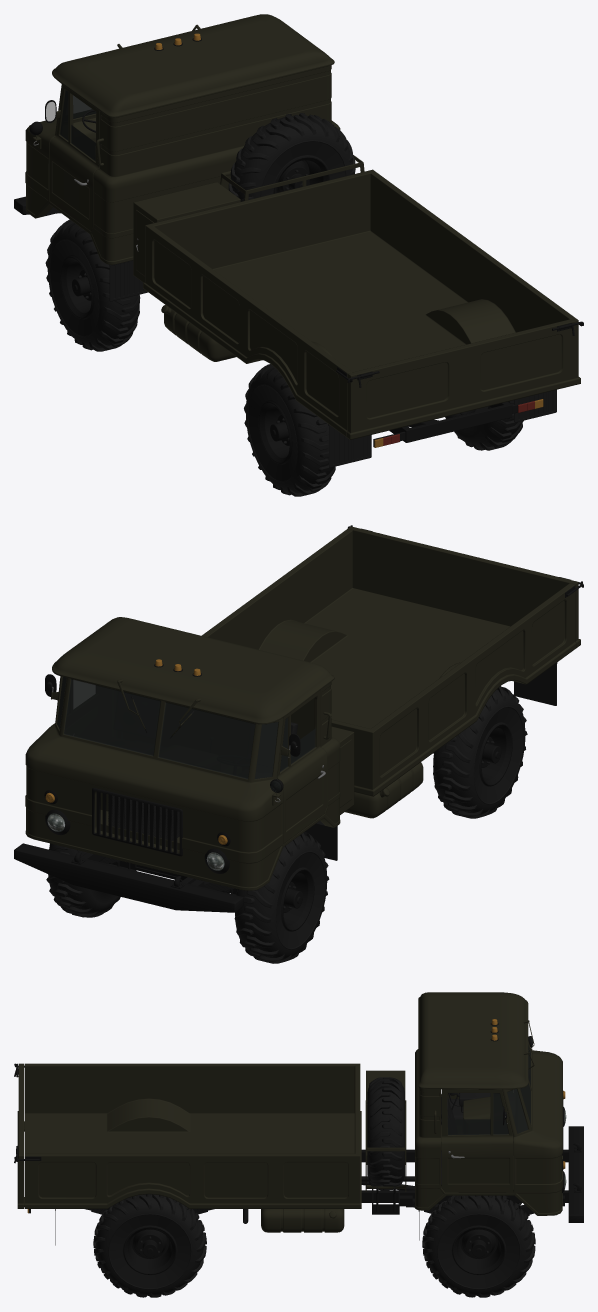
Rendered from GAZ_66.fbx.
3 renders of one model, top to bottom at view 1: azimuth 30°, elevation 25°; view 2: azimuth 150°, elevation 25°; view 3: azimuth 270°, elevation 25°, orthographic. The views are drawn at different scales.
Parts seen in each view (by area): view 1: bodywork, truck cab, wheel, door, frame, drawer, mudguard, support, stopsignal; view 2: truck cab, bodywork, wheel, bumper, door, lattice, frame, mudguard, headlight, drawer, radiator; view 3: bodywork, wheel, truck cab, door, frame, bumper, support, truck cab_2, armchair, drawer, spring.
Boxes of the visible parts, x1,y1,x2,y2 form: bodywork: (143,169,583,439); truck cab: (25,14,340,264); wheel: (45,113,523,496); door: (50,85,99,231); frame: (161,305,512,442); drawer: (133,182,240,282); mudguard: (45,207,556,467); support: (220,155,364,200); stopsignal: (373,398,543,447); truck cab: (25,617,340,890); bodywork: (201,525,583,796); wheel: (46,686,527,963); bumper: (14,843,243,912); door: (51,690,326,843); lattice: (92,788,182,856); frame: (81,762,423,883); mudguard: (305,662,557,860); headlight: (44,659,230,873); drawer: (331,726,354,814); radiator: (108,795,179,840); bodywork: (14,1063,361,1208); wheel: (93,1077,535,1297); truck cab: (415,992,562,1215); door: (441,1089,513,1192); frame: (261,1149,568,1232); bumper: (568,1126,583,1222); support: (365,1100,406,1214); truck cab_2: (441,1096,513,1189); armchair: (441,1093,490,1184); drawer: (366,1070,405,1164); spring: (85,1195,564,1216).
Size of the model in its own units: 2.34 by 2.42 by 5.45.
9 materials, 1 textured.
